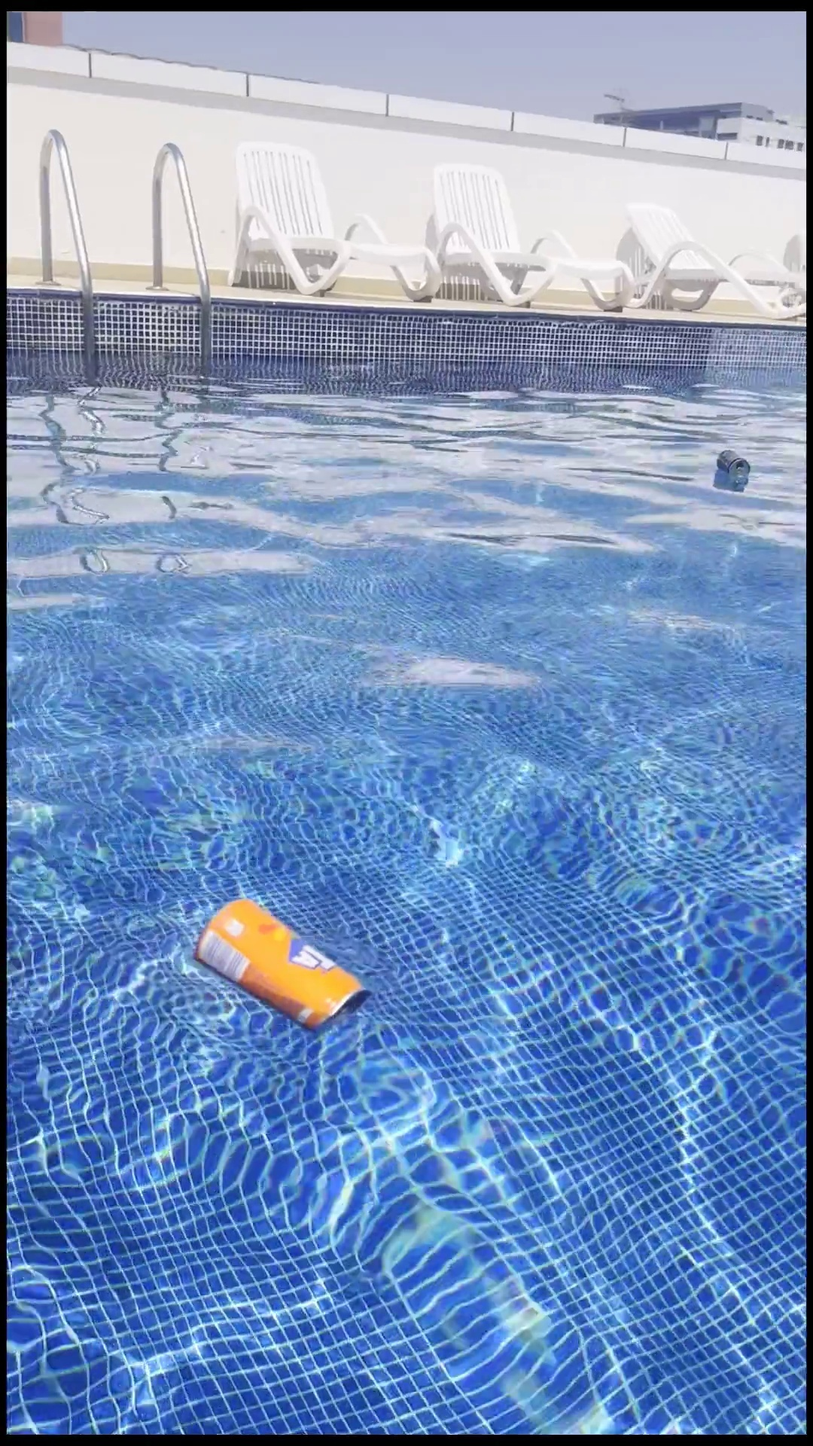debris: (187, 856, 374, 1080), (713, 432, 751, 510)
